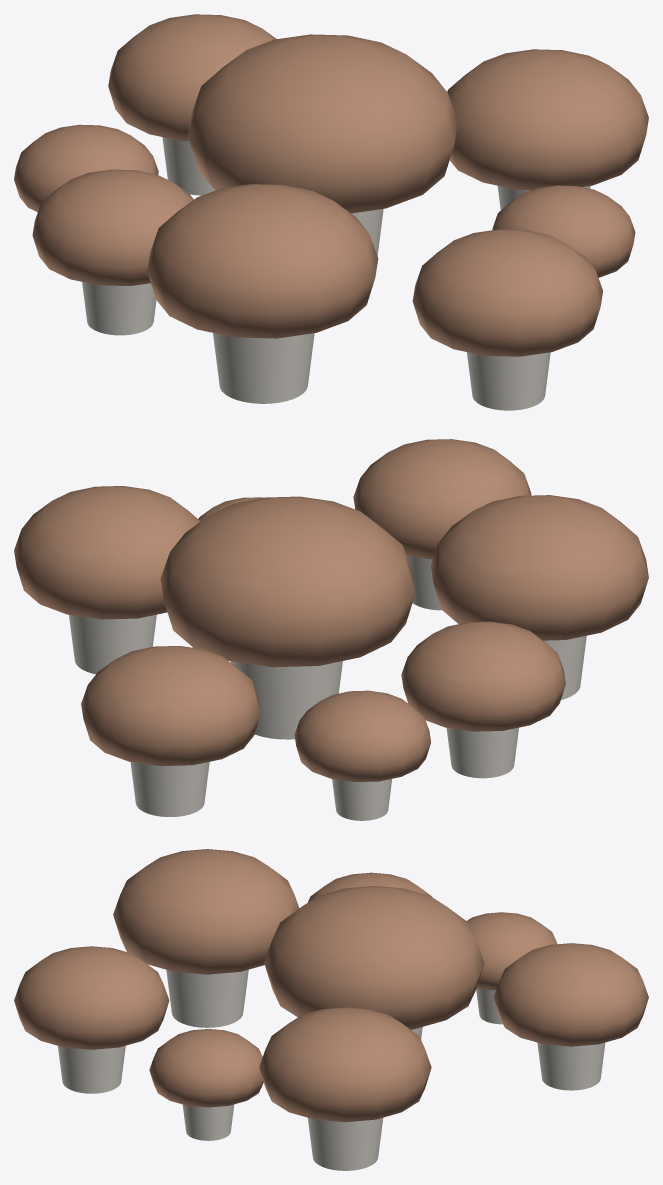
Rendered from mushrooms.glb.
3 views of the same model, one above another, from view 1: azimuth 30°, elevation 25°; view 2: azimuth 150°, elevation 25°; view 3: azimuth 270°, elevation 25° (orthographic). The views are drawn at different scales.
Visible parts, largest first — view 1: Sphere, Sphere.003, Sphere.009, Sphere.002, Sphere.008, Sphere.007, Sphere.006, Sphere.005, Cylinder.003, Cylinder.002, Cylinder.008, Cylinder.007 (+1 smaller); view 2: Sphere, Sphere.003, Sphere.009, Sphere.007, Sphere.008, Sphere.002, Sphere.005, Cylinder, Cylinder.007, Cylinder.009, Cylinder.008, Cylinder.005 (+2 smaller); view 3: Sphere, Sphere.003, Sphere.009, Sphere.007, Sphere.002, Sphere.006, Cylinder.003, Sphere.005, Cylinder.009, Cylinder.007, Cylinder.002, Cylinder.006 (+2 smaller).
Boxes of the visible parts, x1=… form: Sphere: x1=188, y1=34, x2=457, y2=213; Sphere.003: x1=147, y1=184, x2=378, y2=338; Sphere.009: x1=447, y1=49, x2=648, y2=190; Sphere.002: x1=412, y1=229, x2=602, y2=356; Sphere.008: x1=32, y1=169, x2=193, y2=285; Sphere.007: x1=108, y1=14, x2=276, y2=140; Sphere.006: x1=492, y1=185, x2=635, y2=277; Sphere.005: x1=14, y1=124, x2=158, y2=212; Cylinder.003: x1=213, y1=333, x2=314, y2=403; Cylinder.002: x1=467, y1=352, x2=550, y2=410; Cylinder.008: x1=82, y1=282, x2=156, y2=335; Cylinder.007: x1=162, y1=137, x2=215, y2=195; Sphere: x1=160, y1=496, x2=415, y2=667; Sphere.003: x1=430, y1=495, x2=648, y2=640; Sphere.009: x1=14, y1=486, x2=200, y2=619; Sphere.007: x1=81, y1=646, x2=260, y2=766; Sphere.008: x1=401, y1=621, x2=565, y2=731; Sphere.002: x1=353, y1=439, x2=531, y2=559; Sphere.005: x1=294, y1=690, x2=430, y2=781; Cylinder: x1=230, y1=661, x2=342, y2=739; Cylinder.007: x1=130, y1=762, x2=209, y2=816; Cylinder.009: x1=69, y1=614, x2=156, y2=674; Cylinder.008: x1=446, y1=727, x2=518, y2=778; Cylinder.005: x1=332, y1=779, x2=391, y2=820; Sphere: x1=264, y1=886, x2=484, y2=1029; Sphere.003: x1=113, y1=849, x2=299, y2=974; Sphere.009: x1=259, y1=1007, x2=431, y2=1122; Sphere.007: x1=493, y1=943, x2=648, y2=1046; Sphere.002: x1=14, y1=946, x2=169, y2=1049; Sphere.006: x1=149, y1=1029, x2=263, y2=1107; Cylinder.003: x1=166, y1=969, x2=248, y2=1027; Sphere.005: x1=467, y1=912, x2=557, y2=990; Cylinder.009: x1=307, y1=1117, x2=383, y2=1170; Cylinder.007: x1=537, y1=1042, x2=605, y2=1090; Cylinder.002: x1=58, y1=1045, x2=125, y2=1093; Cylinder.006: x1=182, y1=1104, x2=234, y2=1140.
Size of the model in its own units: 1.27 by 0.4578 by 1.49.
1 material, 1 textured.
